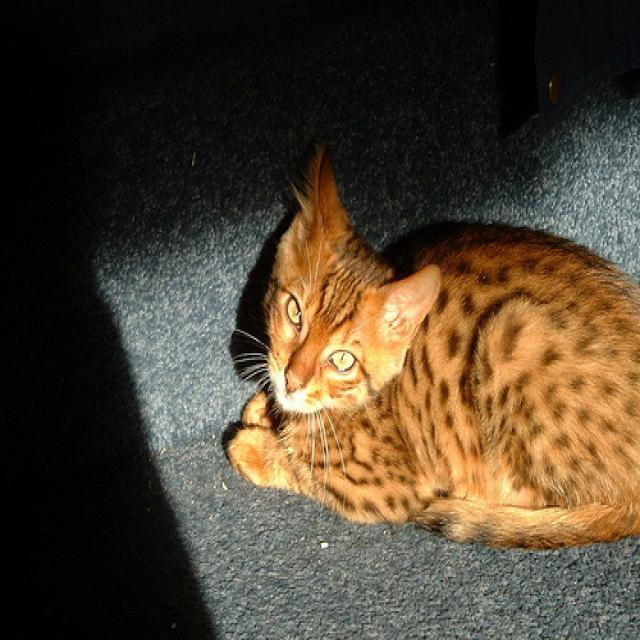Bengal: (259, 146, 440, 422)
